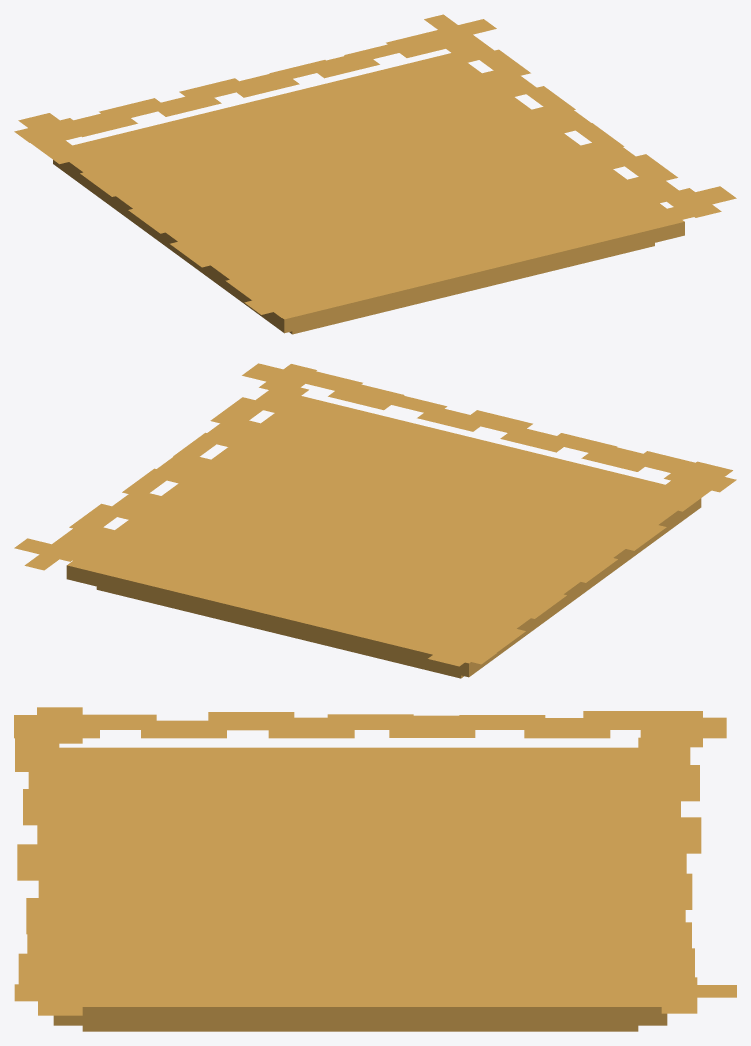
File: island_sand_dark.obj
3 renders of one model, top to bottom at view 1: azimuth 30°, elevation 25°; view 2: azimuth 150°, elevation 25°; view 3: azimuth 270°, elevation 25°, orthographic. The views are drawn at different scales.
Parts seen in each view (by area): view 1: island_sand_dark; view 2: island_sand_dark; view 3: island_sand_dark.
Boxes of the visible parts, x1=… form: island_sand_dark: x1=14, y1=14, x2=736, y2=334; island_sand_dark: x1=14, y1=363, x2=736, y2=678; island_sand_dark: x1=14, y1=707, x2=736, y2=1031.
Bounding box in the file's own units: 252 × 22.35 × 250.
